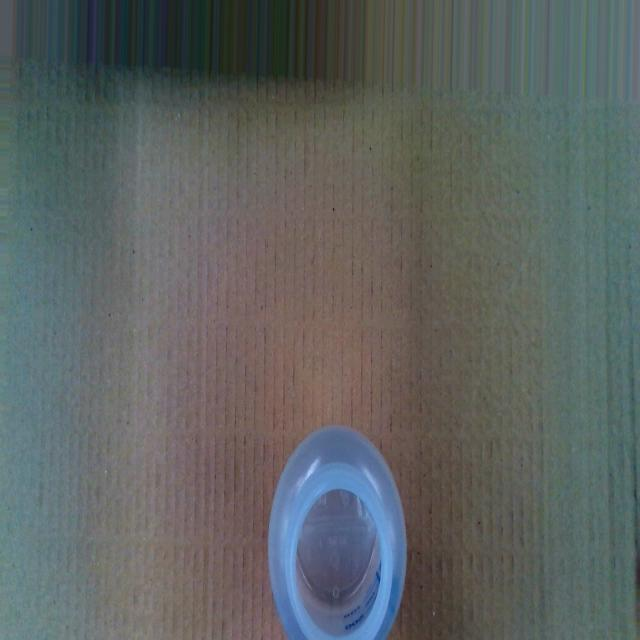bottle: (267, 423, 409, 640)
